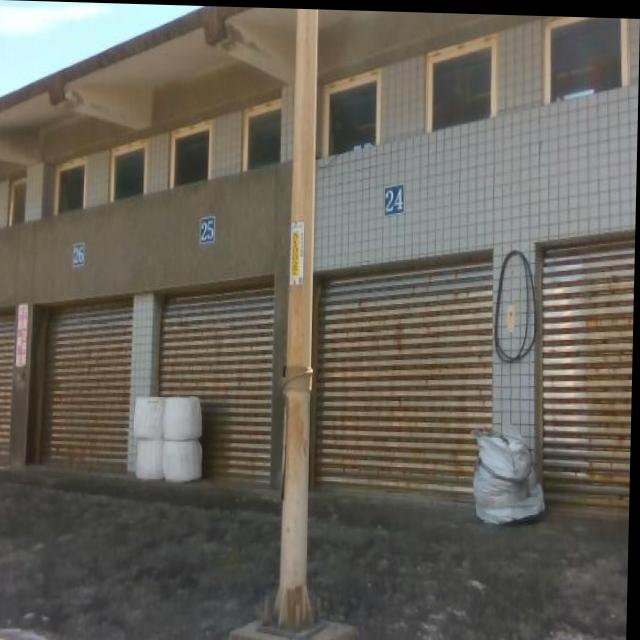pollute: (472, 420, 552, 526), (133, 392, 208, 486)
